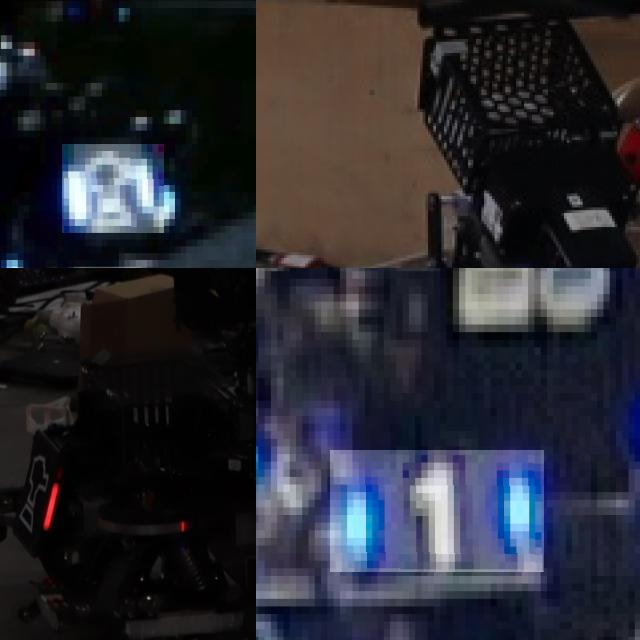B1: (330, 450, 544, 572)
Bs: (62, 144, 164, 233)
Rs: (15, 445, 65, 540)
